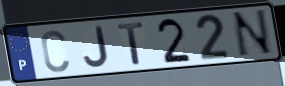2: (197, 12, 234, 64), (156, 17, 194, 65)
C: (39, 28, 71, 75)
J: (82, 25, 111, 69)
N: (230, 8, 276, 60)
T: (115, 20, 147, 67)
